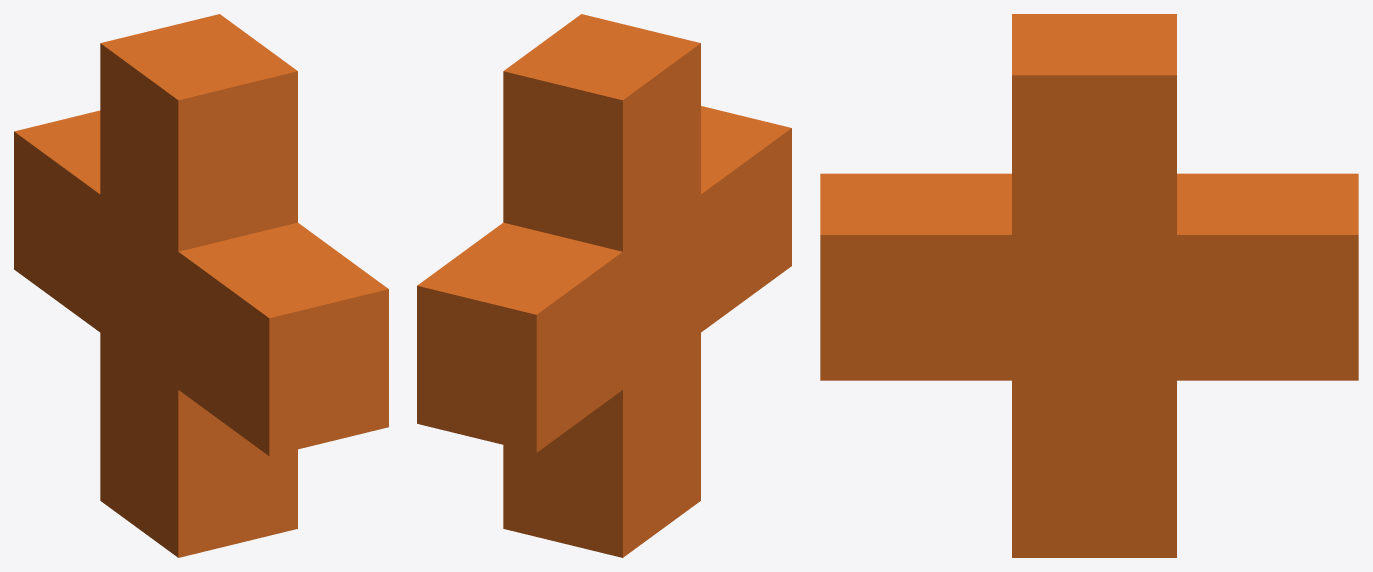
The model's file is Heal.fbx.
The picture shows the model from 3 angles, left to right: view 1: azimuth 30°, elevation 25°; view 2: azimuth 150°, elevation 25°; view 3: azimuth 270°, elevation 25°; orthographic projection. The views are drawn at different scales.
Visible parts, largest first — view 1: Heal; view 2: Heal; view 3: Heal.
Part boxes in pixels (x1=…): Heal: x1=14, y1=14, x2=388, y2=557; Heal: x1=417, y1=14, x2=791, y2=557; Heal: x1=820, y1=14, x2=1358, y2=557.
Bounding box in the file's own units: 63.96 × 234 × 237.
